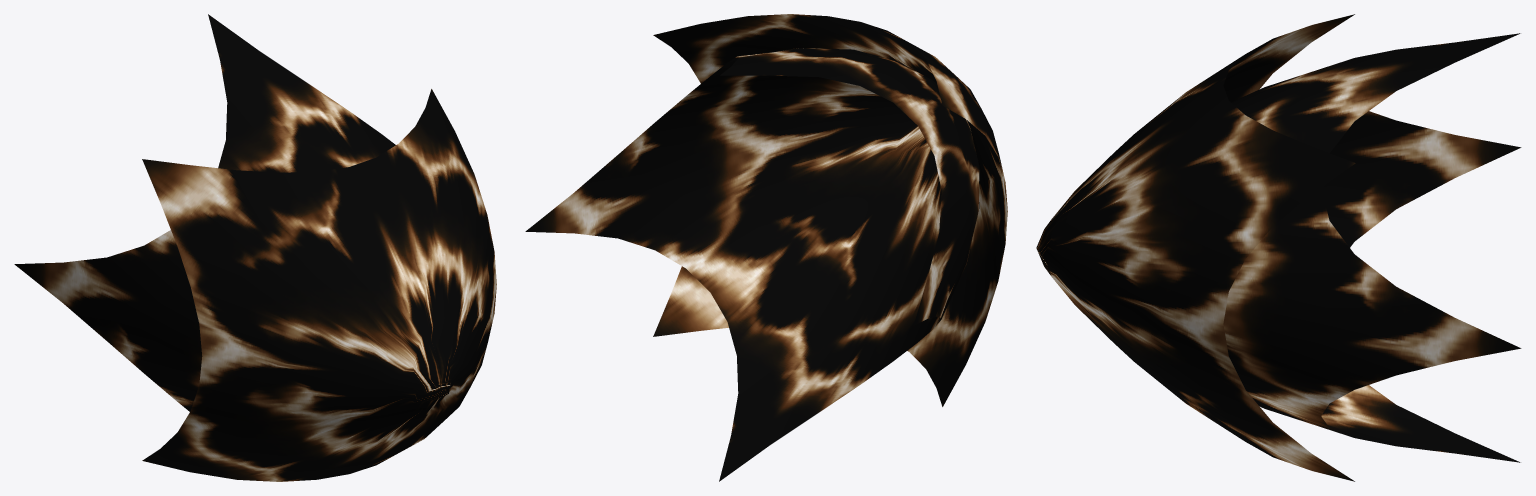
File: UVDR.FBX
3 renders of one model, left to right at view 1: azimuth 30°, elevation 25°; view 2: azimuth 150°, elevation 25°; view 3: azimuth 270°, elevation 25°, orthographic. The views are drawn at different scales.
Parts seen in each view (by area): view 1: Z-chongciPlane001; view 2: Z-chongciPlane001; view 3: Z-chongciPlane001.
Boxes of the visible parts, <box> form: Z-chongciPlane001: <box>14,14,496,481</box>; Z-chongciPlane001: <box>525,14,1007,481</box>; Z-chongciPlane001: <box>1036,14,1521,481</box>.
Bounding box in the file's own units: 3.65 × 3.65 × 3.74.
Materials: 1 (1 with a texture image).
